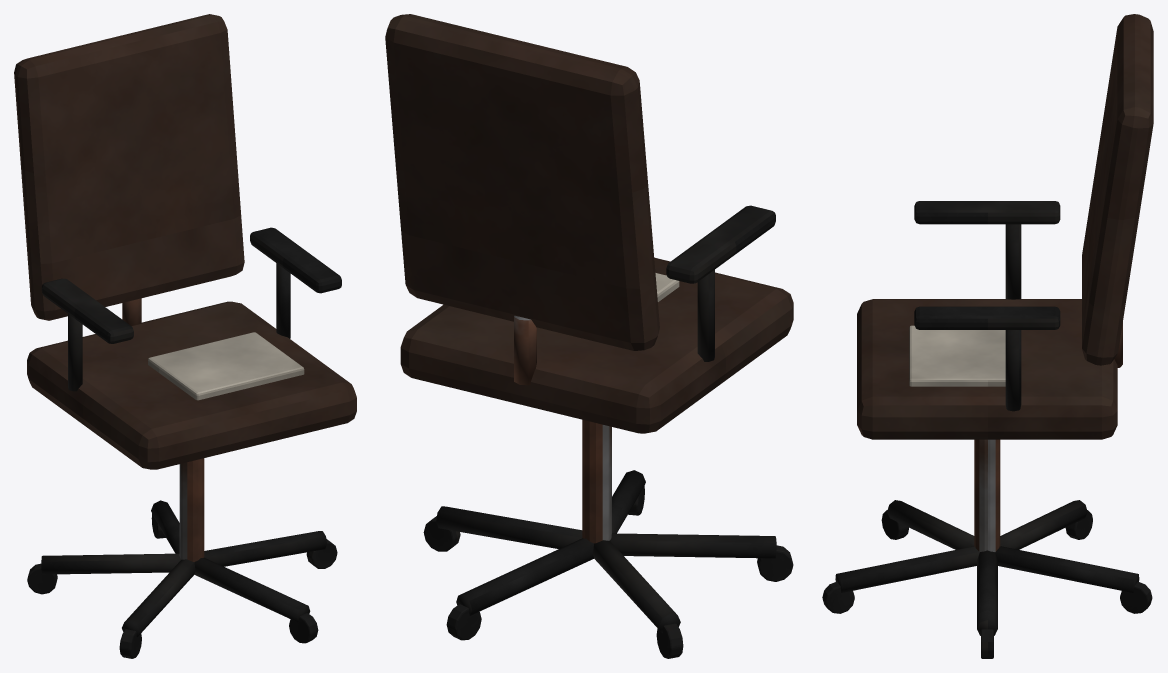
The model's file is F17_office_swivel_chair.glb.
The picture shows the model from 3 angles, left to right: view 1: azimuth 30°, elevation 25°; view 2: azimuth 150°, elevation 25°; view 3: azimuth 270°, elevation 25°; orthographic projection. The views are drawn at different scales.
Visible parts, largest first — view 1: F17_office_swivel_chair; view 2: F17_office_swivel_chair; view 3: F17_office_swivel_chair.
Part boxes in pixels (left/top/right/bottom): F17_office_swivel_chair: left=14, top=14, right=356, bottom=658; F17_office_swivel_chair: left=385, top=14, right=793, bottom=658; F17_office_swivel_chair: left=822, top=14, right=1153, bottom=658.
Size of the model in its own units: 0.5366 by 1 by 0.5659.
Materials: 4 (4 with a texture image).
